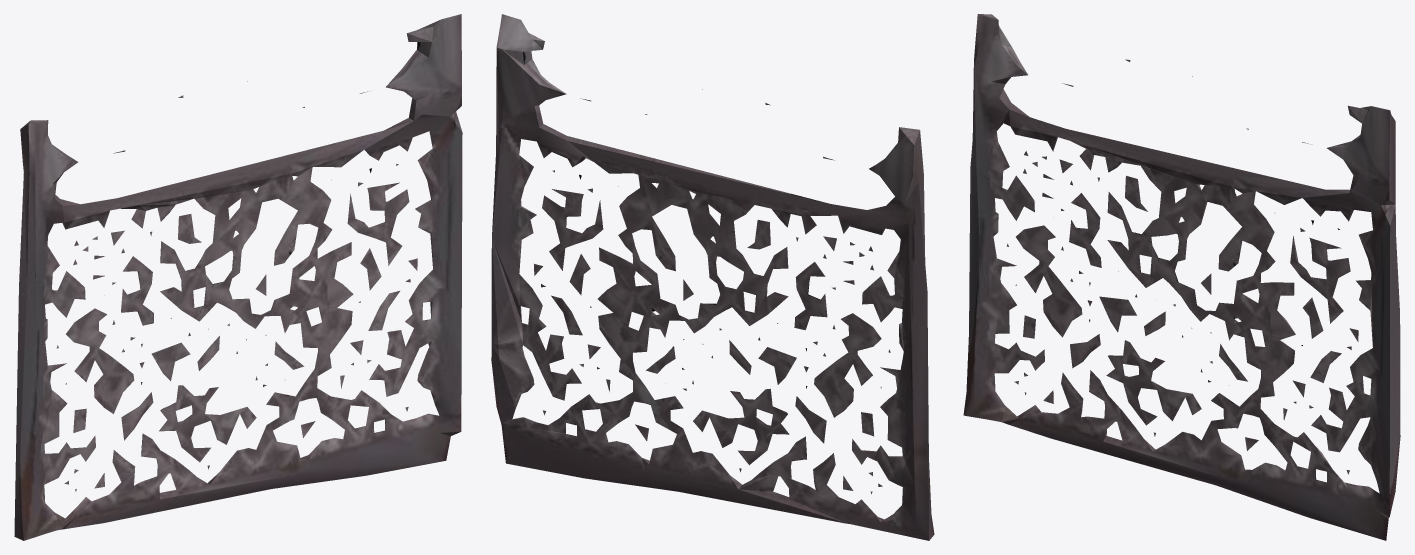
File: bg_wasteland_fence_1_lod0.glb
The picture shows the model from 3 angles, left to right: view 1: azimuth 30°, elevation 25°; view 2: azimuth 150°, elevation 25°; view 3: azimuth 330°, elevation 25°; orthographic projection. The views are drawn at different scales.
Visible parts, largest first — view 1: body; view 2: body; view 3: body.
Boxes of the visible parts, <box> form: body: <box>14,14,462,540</box>; body: <box>491,14,934,540</box>; body: <box>963,14,1400,540</box>.
Size of the model in its own units: 1.4 by 1.37 by 0.0829.
Materials: 1 (1 with a texture image).
